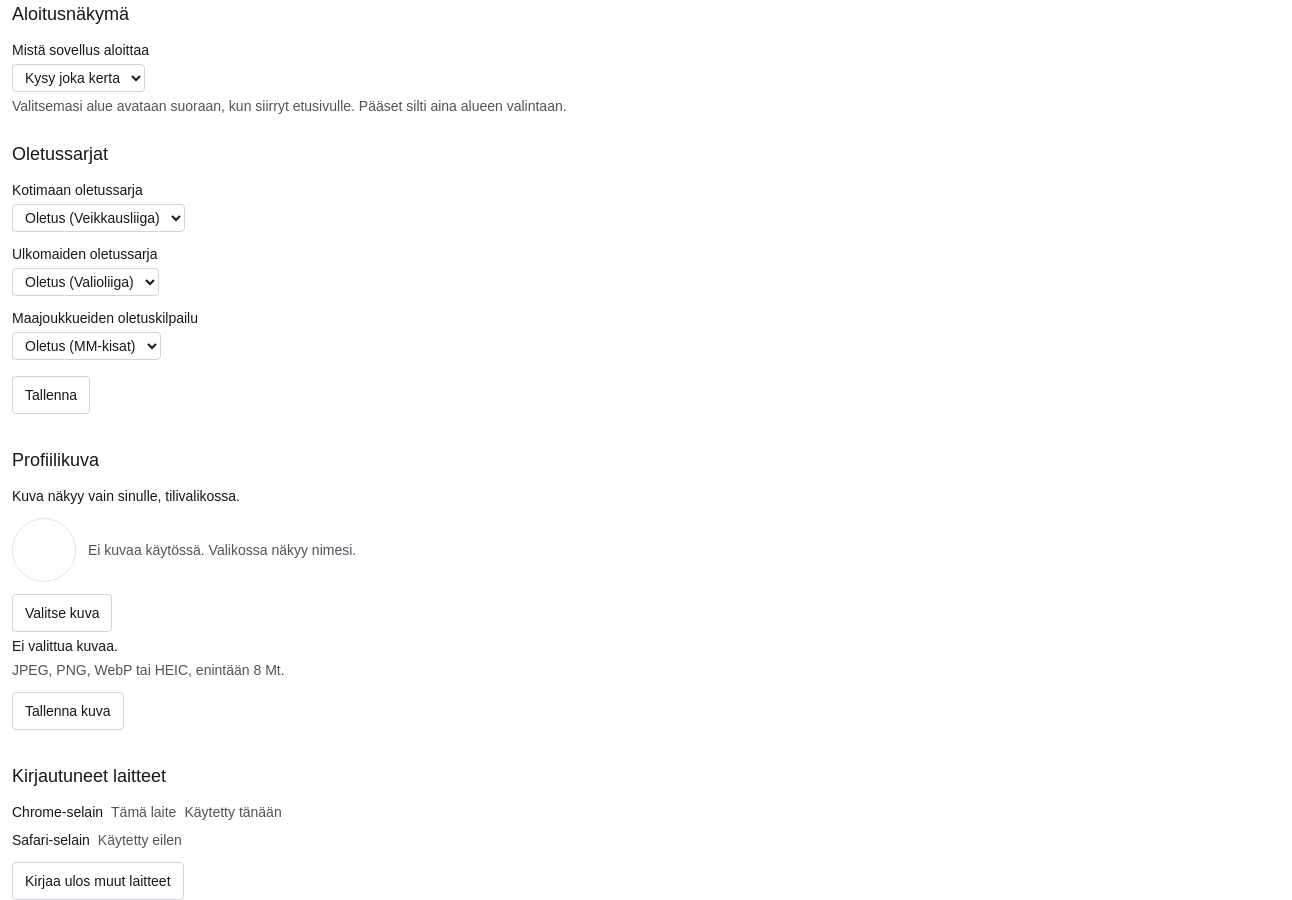
Test: signed-in devices › signs the other devices out
Click the button "Kirjaa ulos muut laitteet" at x=98, y=881, box [12,862,184,899]
(page scrolled)
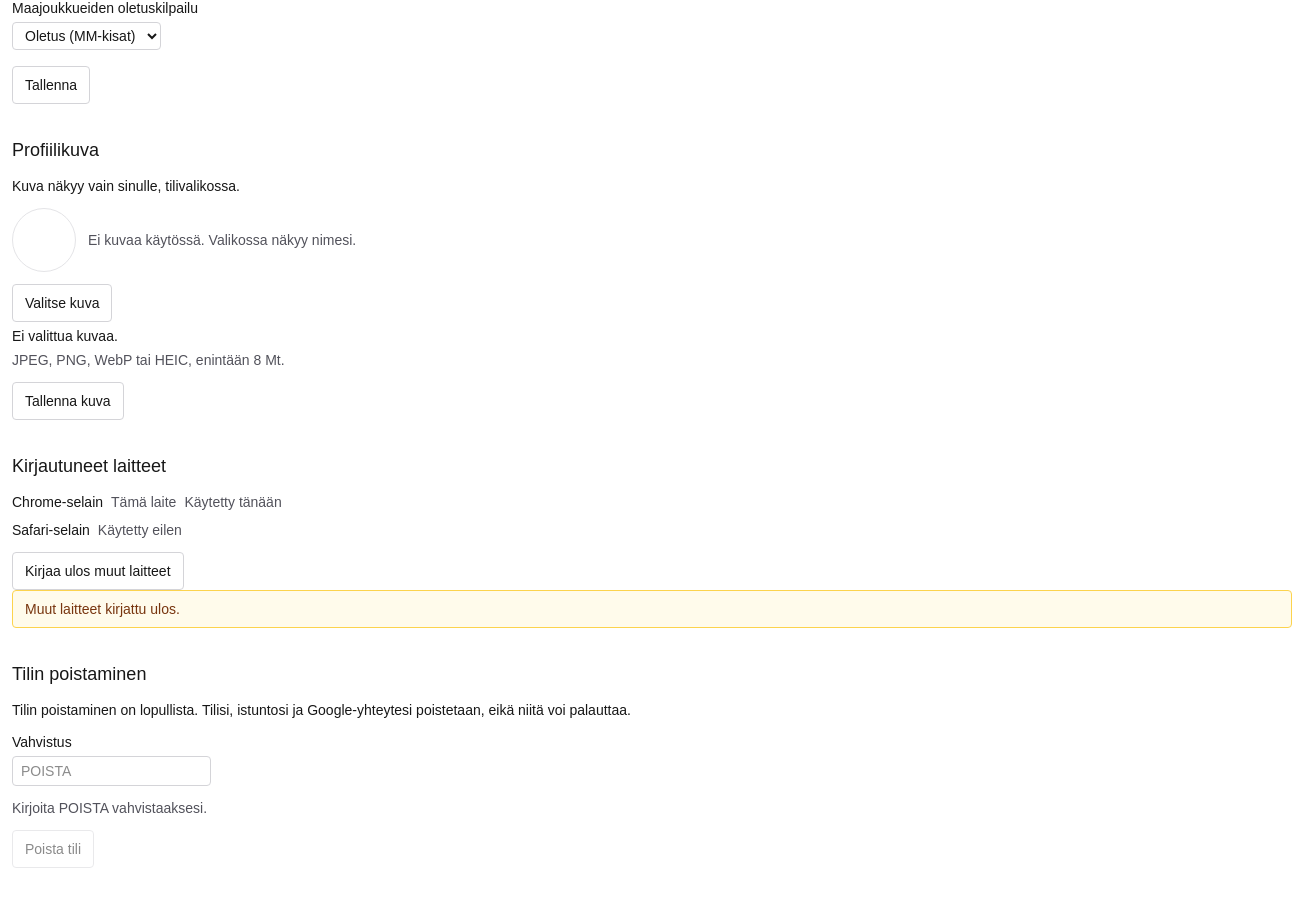
Expected: the text "Muut laitteet kirjattu ulos." is shown, [12,590,1291,628]
